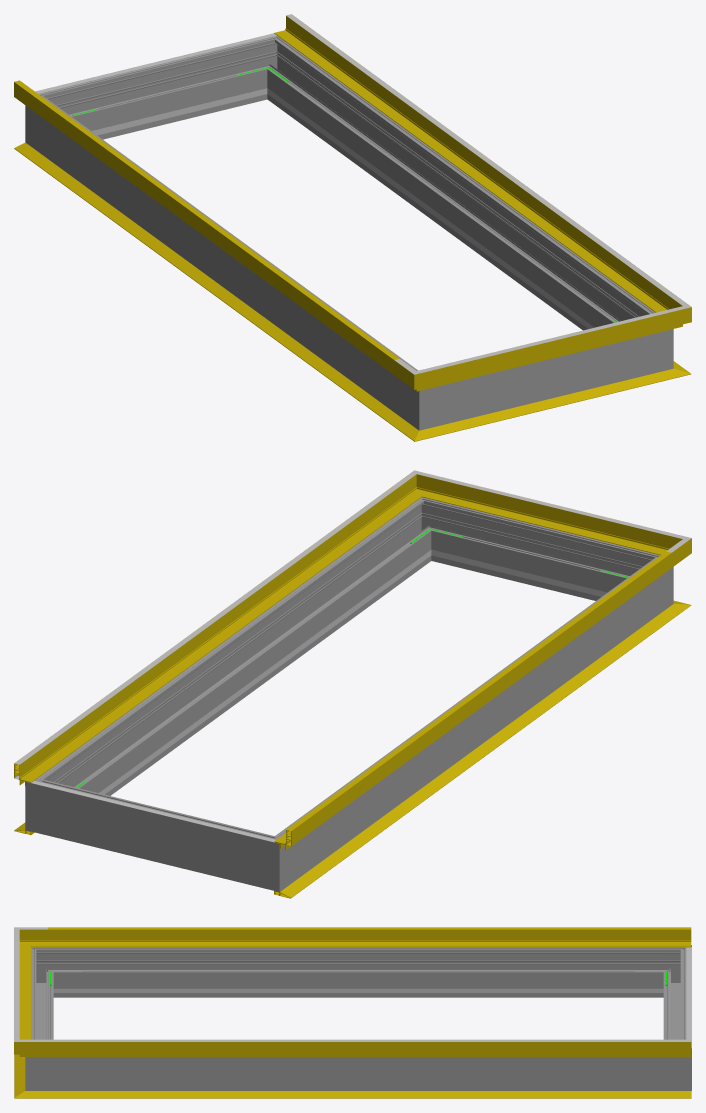
3 renders of one model, top to bottom at view 1: azimuth 30°, elevation 25°; view 2: azimuth 150°, elevation 25°; view 3: azimuth 270°, elevation 25°, orthographic. The views are drawn at different scales.
Parts seen in each view (by area): view 1: 3DGeom-298, 3DGeom-269, 3DGeom-58, 3DGeom-277, 3DGeom-299, 3DGeom-50, 3DGeom-38, 3DGeom-56, 3DGeom-64, 3DGeom-71, 3DGeom-28, 3DGeom-271 (+9 smaller); view 2: 3DGeom-298, 3DGeom-269, 3DGeom-58, 3DGeom-299, 3DGeom-277, 3DGeom-50, 3DGeom-38, 3DGeom-56, 3DGeom-279, 3DGeom-64, 3DGeom-71, 3DGeom-238 (+8 smaller); view 3: 3DGeom-269, 3DGeom-298, 3DGeom-50, 3DGeom-58, 3DGeom-30, 3DGeom-233, 3DGeom-71, 3DGeom-64, 3DGeom-277, 3DGeom-299, 3DGeom-291, 3DGeom-285 (+9 smaller).
Part boxes in pixels (x1,y1,x2,y2): 3DGeom-298: (270, 48, 647, 330); 3DGeom-269: (45, 106, 410, 415); 3DGeom-58: (274, 14, 671, 311); 3DGeom-277: (63, 43, 261, 139); 3DGeom-299: (454, 337, 638, 422); 3DGeom-50: (14, 82, 394, 374); 3DGeom-38: (14, 142, 405, 426); 3DGeom-56: (445, 315, 657, 384); 3DGeom-64: (286, 14, 671, 293); 3DGeom-71: (14, 80, 399, 359); 3DGeom-28: (443, 374, 656, 433); 3DGeom-271: (399, 365, 453, 430); 3DGeom-298: (51, 509, 427, 795); 3DGeom-269: (289, 567, 653, 876); 3DGeom-58: (14, 486, 411, 785); 3DGeom-299: (437, 504, 635, 600); 3DGeom-277: (60, 785, 251, 883); 3DGeom-50: (274, 553, 671, 849); 3DGeom-38: (274, 614, 671, 898); 3DGeom-56: (439, 481, 653, 551); 3DGeom-279: (245, 826, 299, 891); 3DGeom-64: (14, 485, 399, 765); 3DGeom-71: (286, 551, 671, 831); 3DGeom-238: (99, 564, 411, 794); 3DGeom-269: (59, 947, 657, 997); 3DGeom-298: (59, 1057, 657, 1090); 3DGeom-50: (48, 929, 691, 947); 3DGeom-58: (48, 1042, 691, 1056); 3DGeom-30: (48, 1091, 691, 1098); 3DGeom-233: (86, 988, 630, 992); 3DGeom-71: (48, 927, 691, 929); 3DGeom-64: (48, 1039, 691, 1041); 3DGeom-277: (663, 959, 686, 1039); 3DGeom-299: (31, 959, 53, 1039); 3DGeom-291: (25, 1035, 59, 1090); 3DGeom-285: (658, 1035, 691, 1090).
Bounding box in the file's own units: 1.22 × 0.2831 × 3.05.
